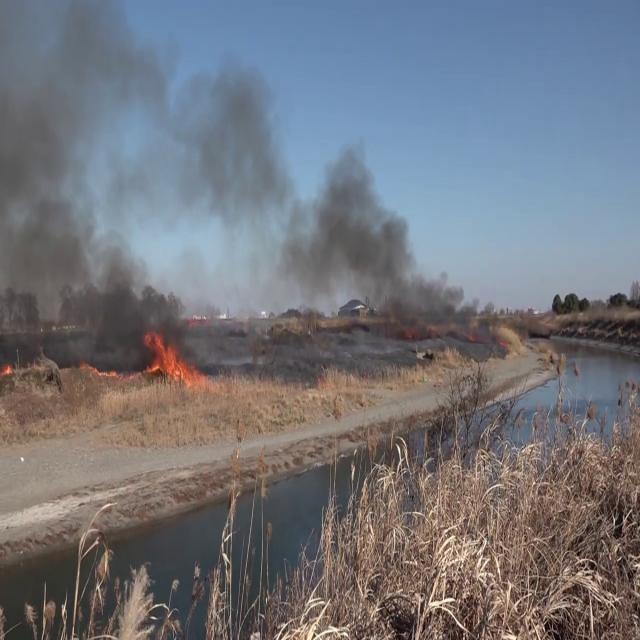Fire: (140, 327, 200, 385)
Smoke: (202, 46, 474, 334), (0, 1, 214, 336)
